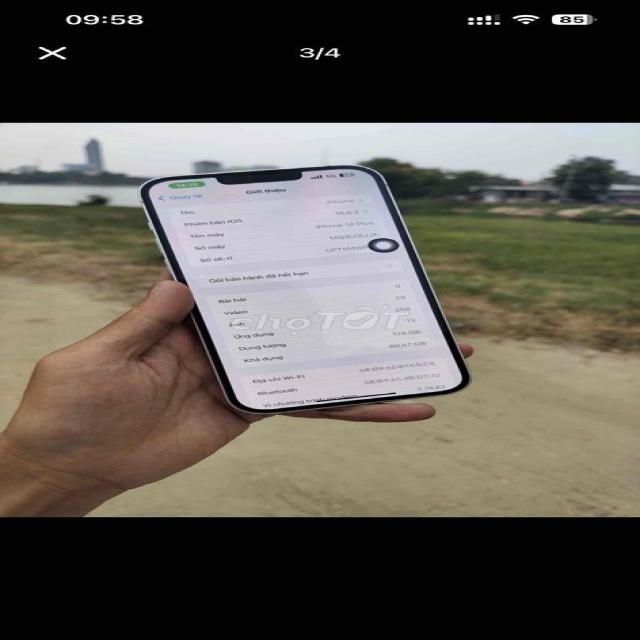gen_14: (122, 164, 478, 416)
